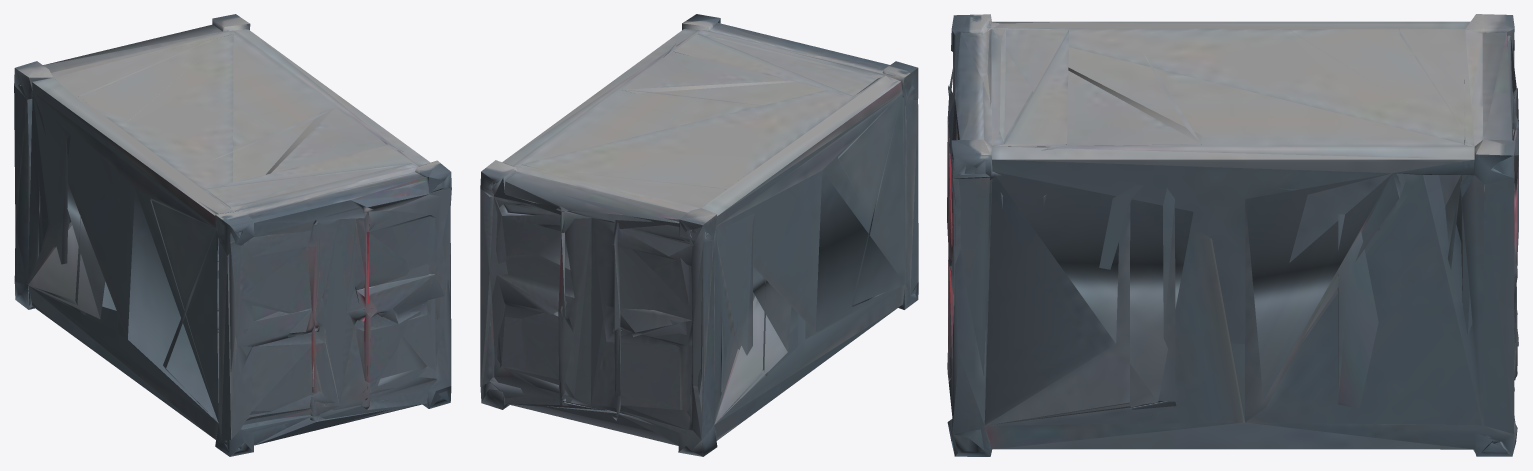
The model's file is deco_conteneur.glb.
3 views of the same model, side by side, from view 1: azimuth 30°, elevation 25°; view 2: azimuth 150°, elevation 25°; view 3: azimuth 270°, elevation 25° (orthographic). The views are drawn at different scales.
Parts seen in each view (by area): view 1: mesh_node; view 2: mesh_node; view 3: mesh_node.
Boxes of the visible parts, x1,y1,x2,y2 form: mesh_node: [14, 14, 451, 456]; mesh_node: [480, 14, 918, 456]; mesh_node: [947, 14, 1518, 456].
Size of the model in its own units: 1.11 by 1.11 by 1.9.
Materials: 1 (1 with a texture image).
